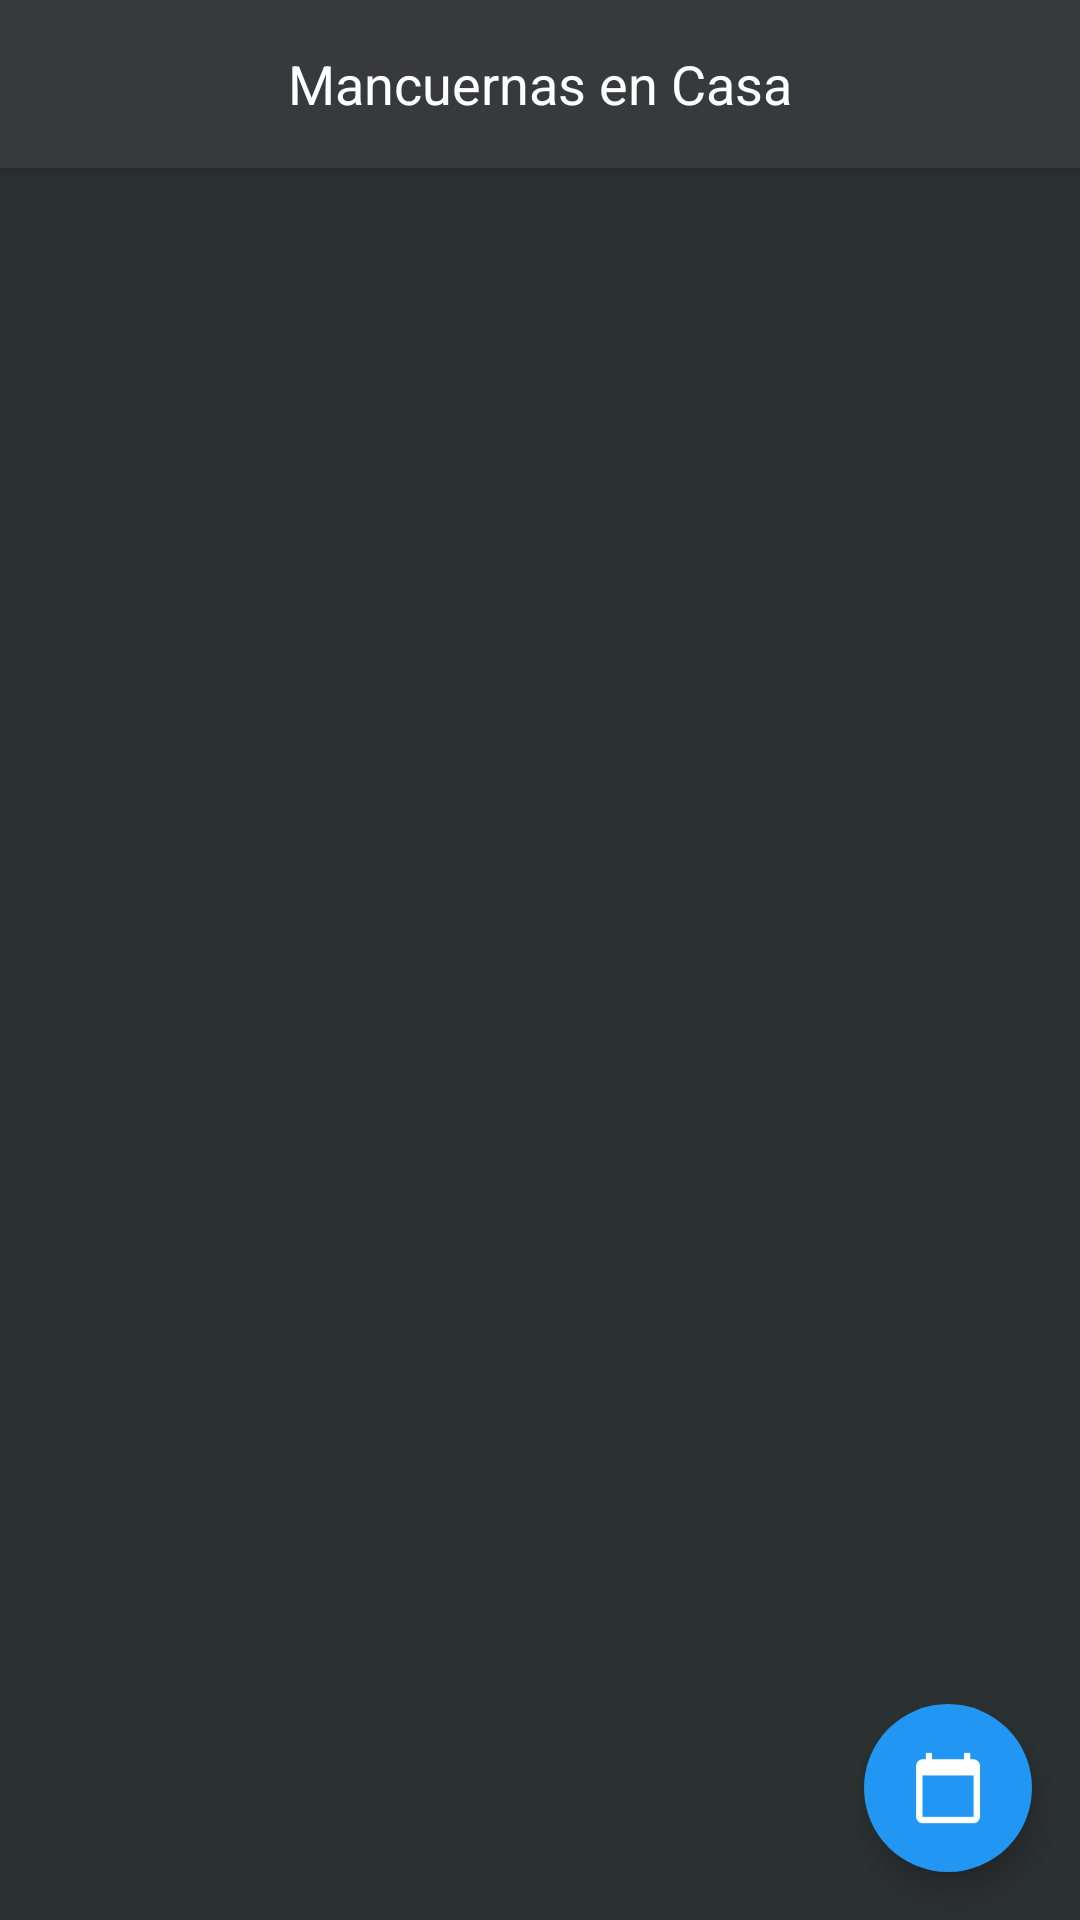

Locate icon controls on the screen. Image size 1080×1920, boxes as [x1=x1, y1=y1, x2=x2, y2=y2].
calendar today: [x1=864, y1=1704, x2=1032, y2=1872]
